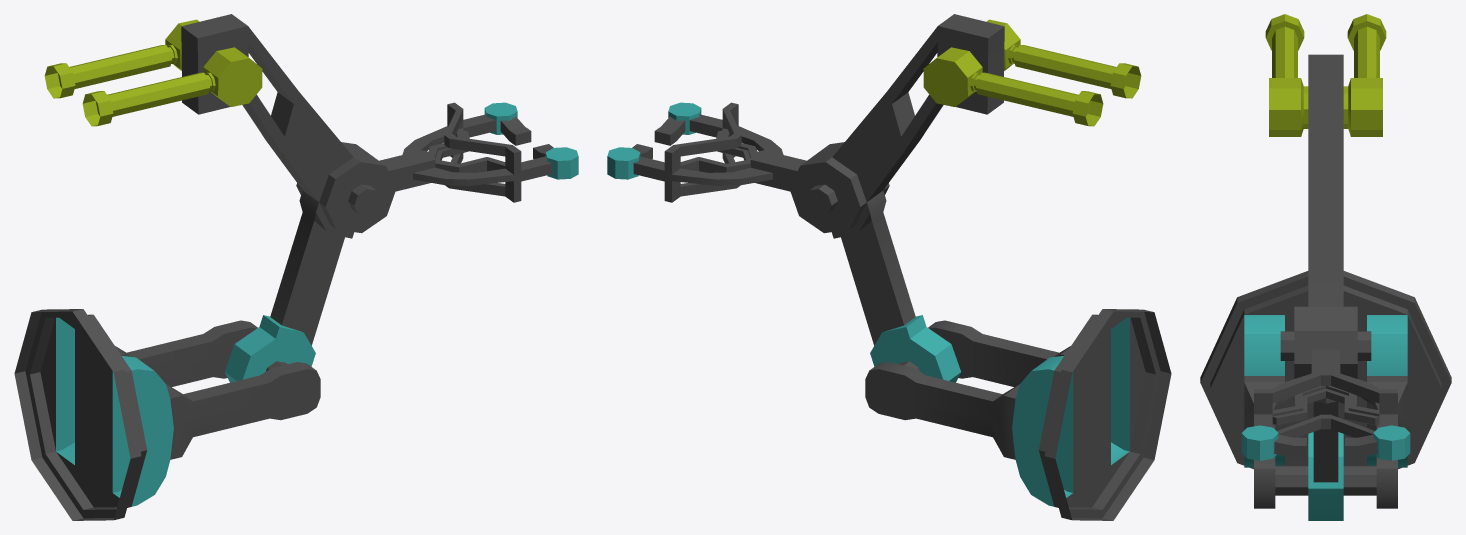
File: Pince_mecha.fbx
The picture shows the model from 3 angles, left to right: view 1: azimuth 30°, elevation 25°; view 2: azimuth 150°, elevation 25°; view 3: azimuth 270°, elevation 25°; orthographic projection. The views are drawn at different scales.
Parts seen in each view (by area): view 1: Pince Mecha; view 2: Pince Mecha; view 3: Pince Mecha.
Boxes of the visible parts, x1,y1,x2,y2 form: Pince Mecha: (14,14,578,520); Pince Mecha: (607,14,1171,520); Pince Mecha: (1200,14,1451,520).
Size of the model in its own units: 53.27 by 49.42 by 22.6.
